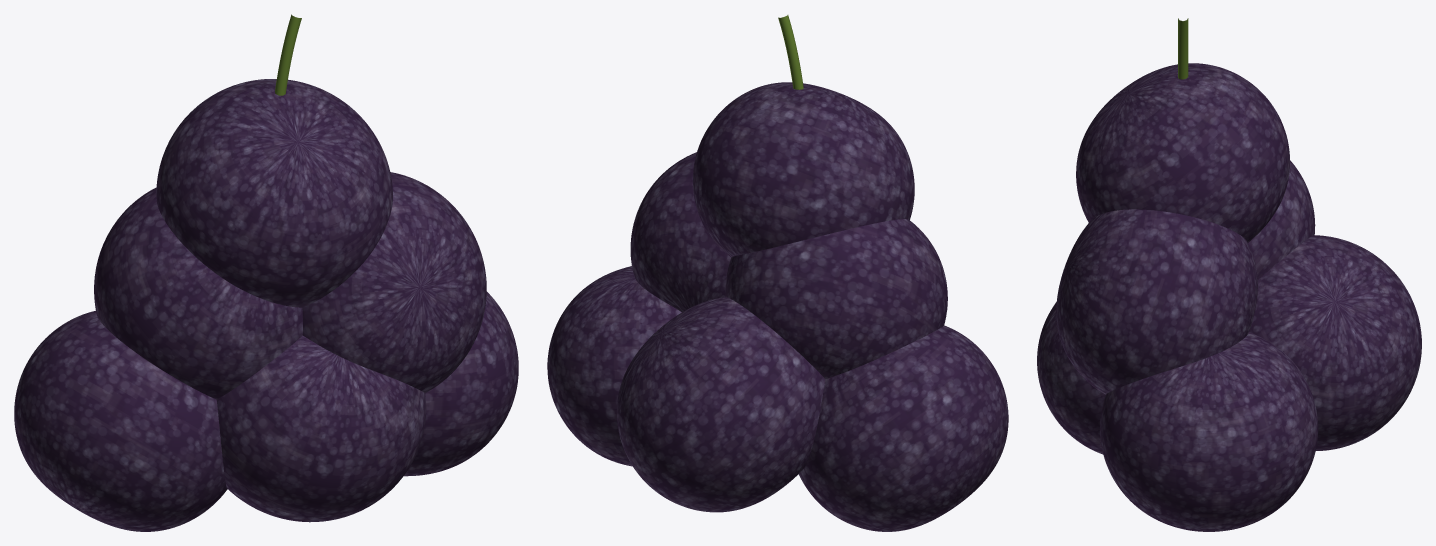
File: elderberry.glb
3 renders of one model, left to right at view 1: azimuth 30°, elevation 25°; view 2: azimuth 150°, elevation 25°; view 3: azimuth 270°, elevation 25°, orthographic. The views are drawn at different scales.
Size of the model in its own units: 0.1383 by 0.139 by 0.1078.
2 materials, 1 textured.
